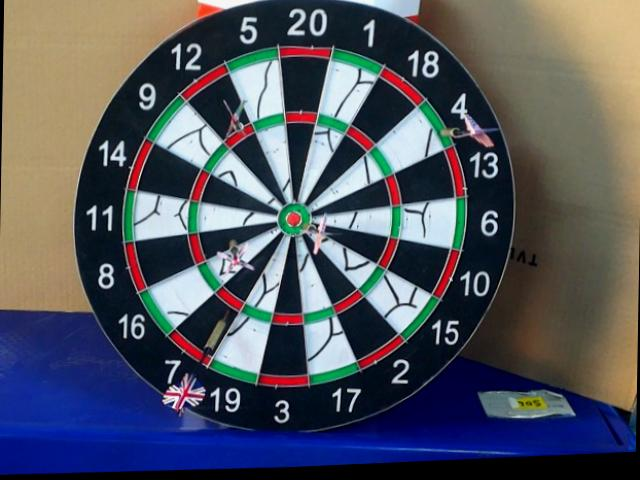bullseye: (278, 204, 312, 235)
double_4: (422, 103, 453, 146)
single_7: (179, 297, 233, 354)
single_8: (209, 232, 244, 255), (201, 232, 209, 244), (254, 228, 265, 236)
